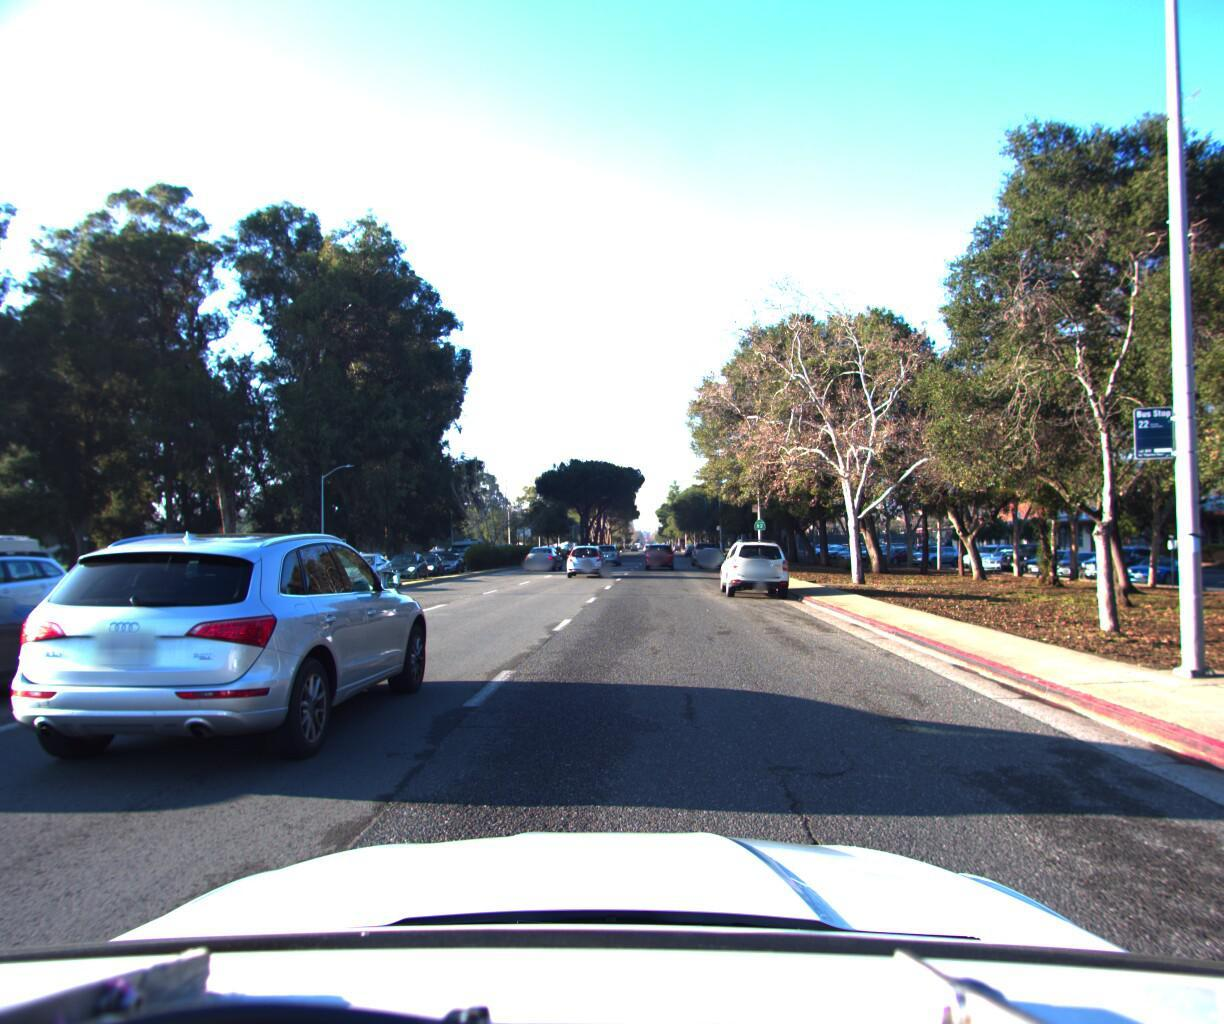car: (714, 529, 793, 595), (61, 561, 159, 601), (328, 547, 396, 586), (379, 546, 431, 578), (565, 537, 607, 573), (404, 547, 446, 574), (523, 539, 561, 566), (430, 546, 468, 570), (695, 534, 726, 563), (640, 537, 671, 564), (687, 533, 717, 560), (593, 536, 622, 560)
other_vehicle: (267, 529, 351, 579)
